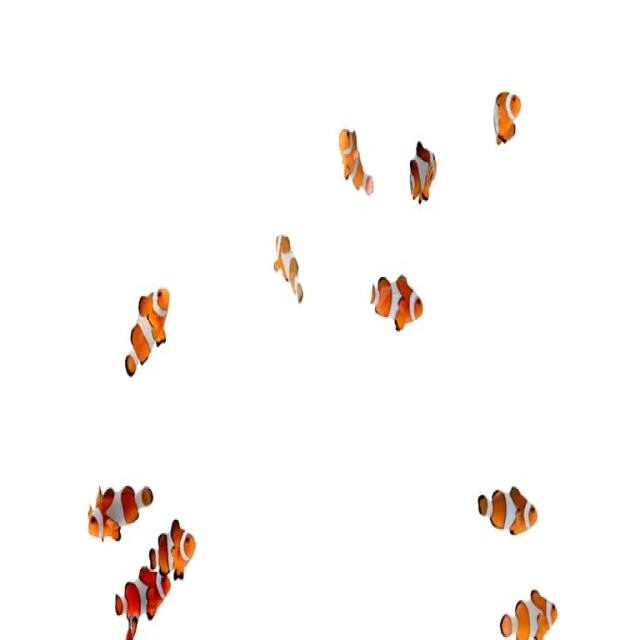fish: (363, 258, 427, 348), (120, 282, 174, 381), (476, 474, 543, 553), (78, 478, 157, 543), (115, 564, 172, 636), (494, 578, 560, 640), (147, 518, 204, 584), (486, 78, 528, 162), (271, 224, 309, 314), (338, 120, 376, 205), (404, 128, 440, 211)
